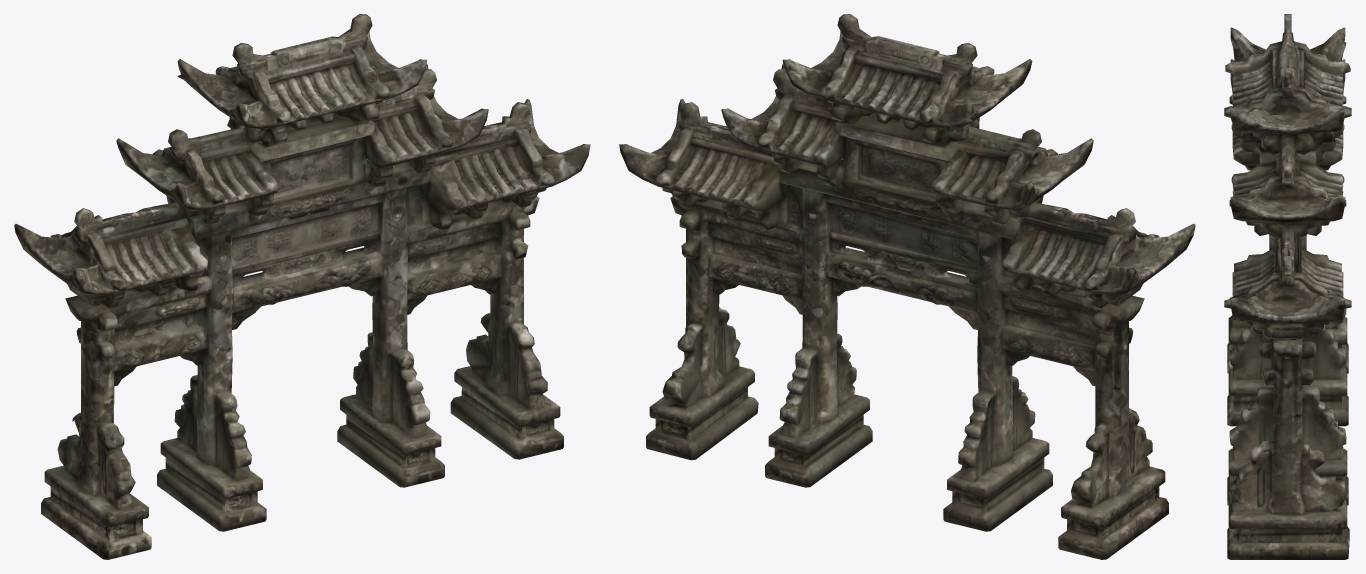
The model's file is paifang.glb.
3 renders of one model, left to right at view 1: azimuth 30°, elevation 25°; view 2: azimuth 150°, elevation 25°; view 3: azimuth 270°, elevation 25°, orthographic. The views are drawn at different scales.
Parts seen in each view (by area): view 1: tripo_node_f8378201-02c6-4d69-a62e-887f768bb8e7; view 2: tripo_node_f8378201-02c6-4d69-a62e-887f768bb8e7; view 3: tripo_node_f8378201-02c6-4d69-a62e-887f768bb8e7.
Part boxes in pixels (x1,y1,x2,y2): tripo_node_f8378201-02c6-4d69-a62e-887f768bb8e7: (14,14,590,559); tripo_node_f8378201-02c6-4d69-a62e-887f768bb8e7: (619,14,1195,559); tripo_node_f8378201-02c6-4d69-a62e-887f768bb8e7: (1224,14,1351,559).
Bounding box in the file's own units: 0.9776 × 0.8169 × 0.2277.
Materials: 1 (1 with a texture image).
